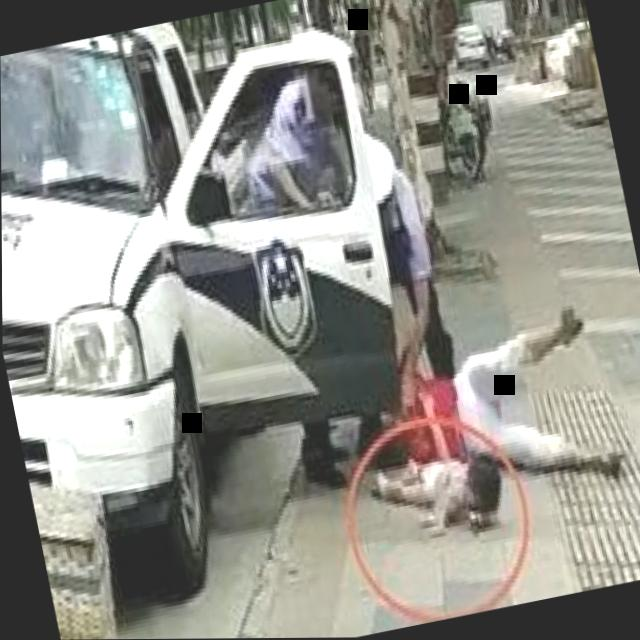Fall-Detected: (354, 411, 523, 554)
